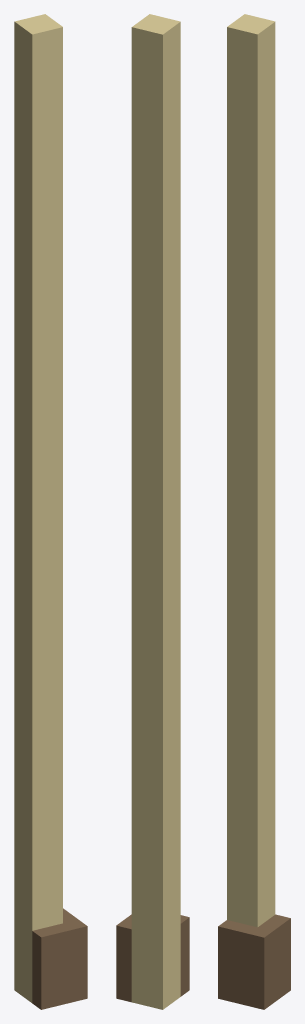
The model's file is Mesh_WallBaseboard_I6.fbx.
3 views of the same model, side by side, from view 1: azimuth 30°, elevation 25°; view 2: azimuth 150°, elevation 25°; view 3: azimuth 330°, elevation 25° (orthographic).
Visible parts, largest first — view 1: Mesh_WallBaseboard_I6; view 2: Mesh_WallBaseboard_I6; view 3: Mesh_WallBaseboard_I6.
Boxes of the visible parts, left/top/right/bottom form: Mesh_WallBaseboard_I6: left=14, top=14, right=87, bottom=1009; Mesh_WallBaseboard_I6: left=116, top=14, right=189, bottom=1009; Mesh_WallBaseboard_I6: left=218, top=14, right=290, bottom=1009.
Bounding box in the file's own units: 0.15 × 3 × 0.15.
